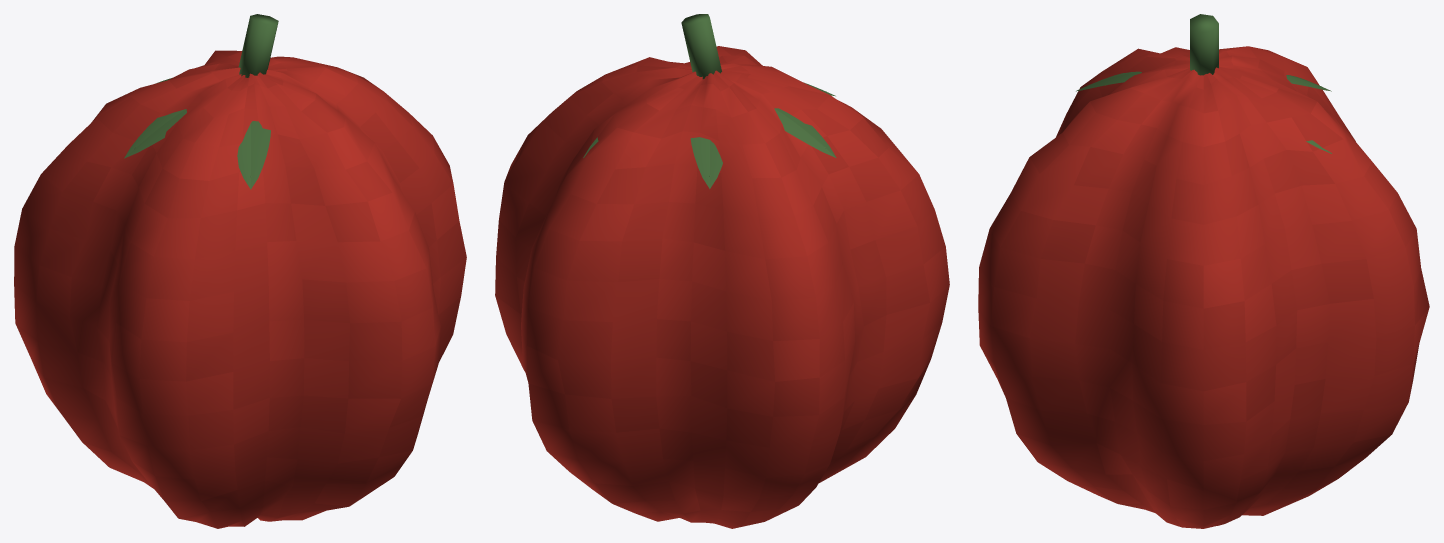
Rendered from BellPepper.glb.
The picture shows the model from 3 angles, left to right: view 1: azimuth 30°, elevation 25°; view 2: azimuth 150°, elevation 25°; view 3: azimuth 270°, elevation 25°; orthographic projection.
Parts seen in each view (by area): view 1: BellPepper; view 2: BellPepper; view 3: BellPepper.
Part boxes in pixels (x1,y1,x2,y2): BellPepper: (14, 14, 466, 528); BellPepper: (495, 14, 949, 528); BellPepper: (978, 14, 1429, 528).
Size of what is drawn, in the model's own units: 0.0841 by 0.1014 by 0.0829.
